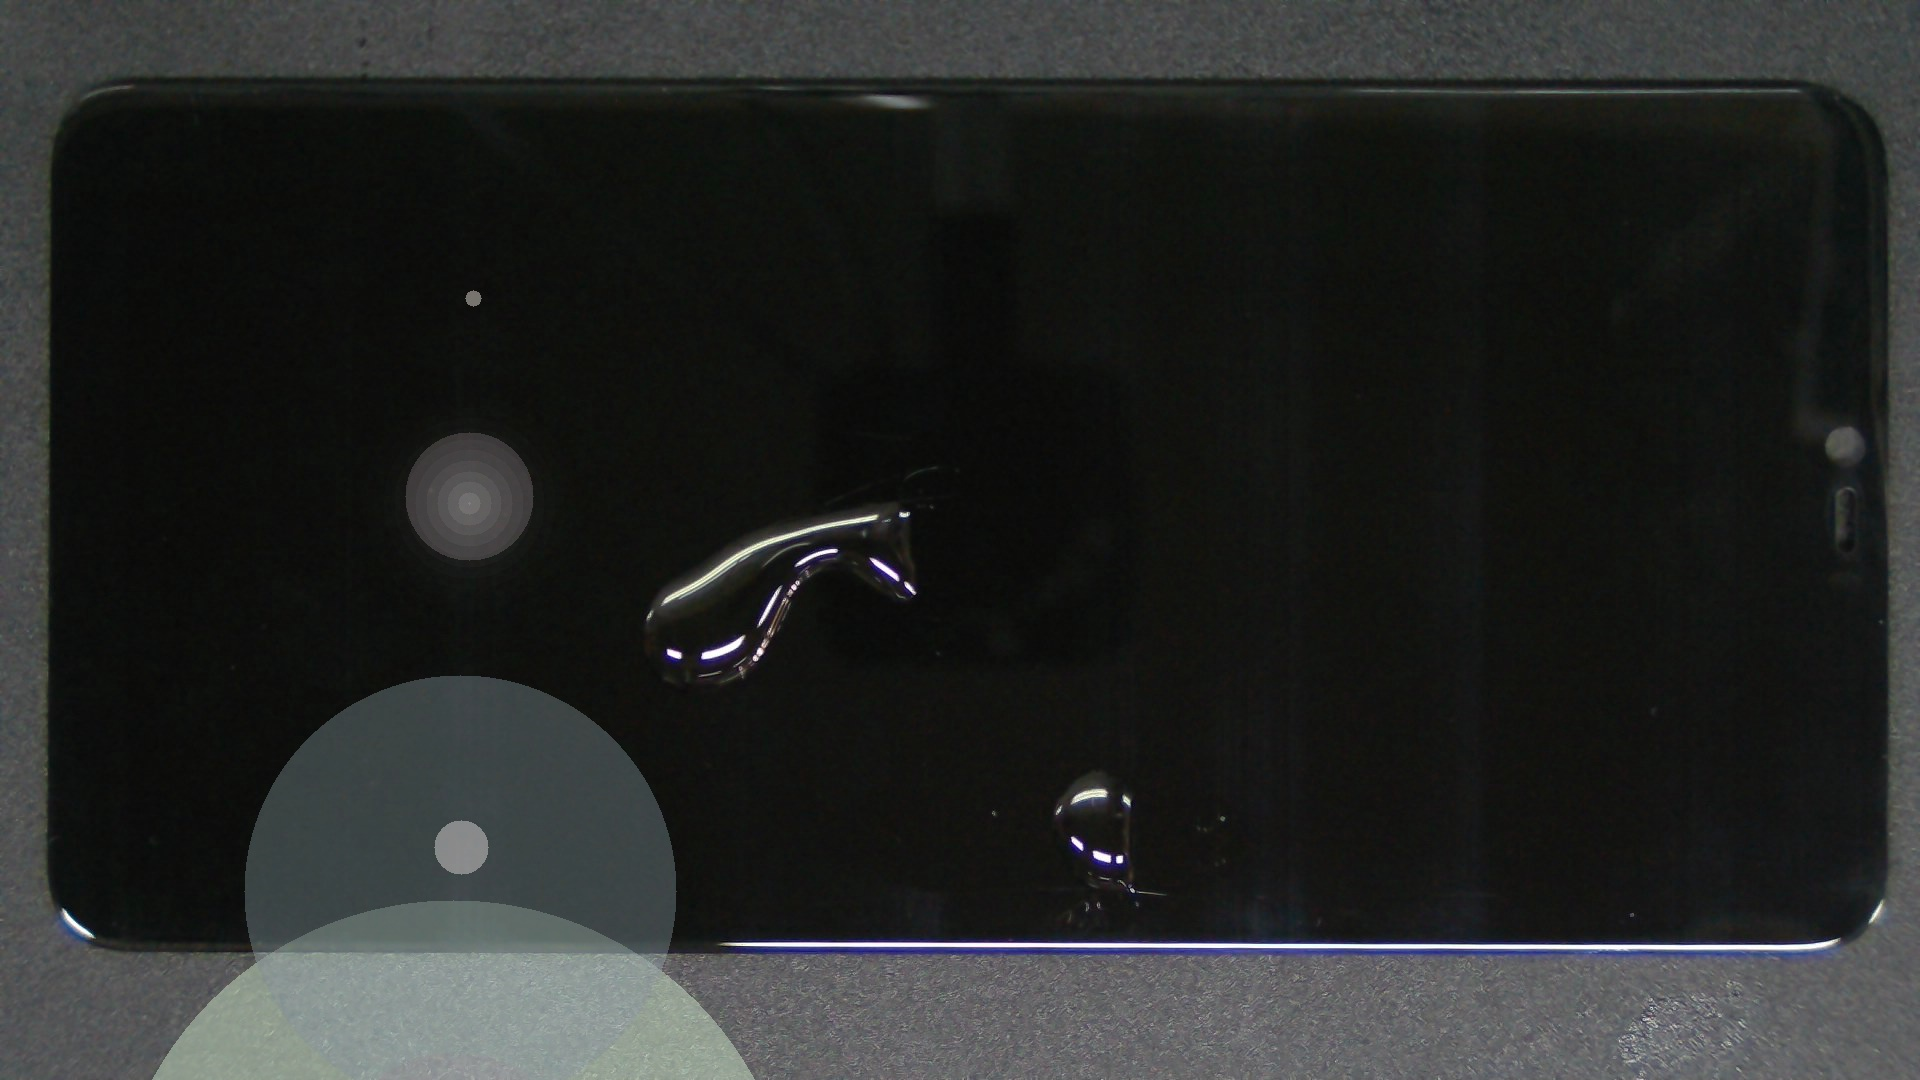oil: (551, 384, 1651, 1080), (454, 249, 1357, 750)
